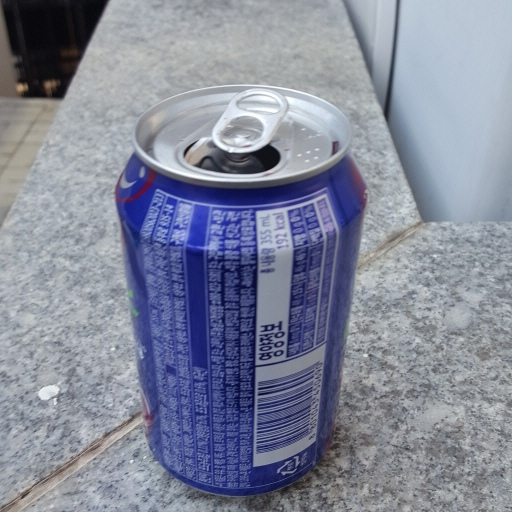Metal_0: (114, 81, 370, 495)
